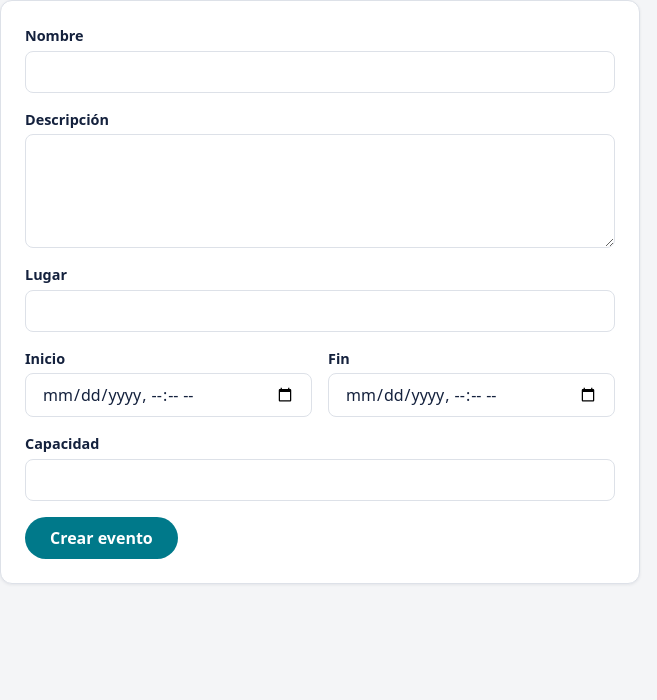
Scenario: EventForm › shows validation errors and does not submit an invalid form
Click the button "Crear evento": (101, 538) x1=25 y1=517 x2=178 y2=559
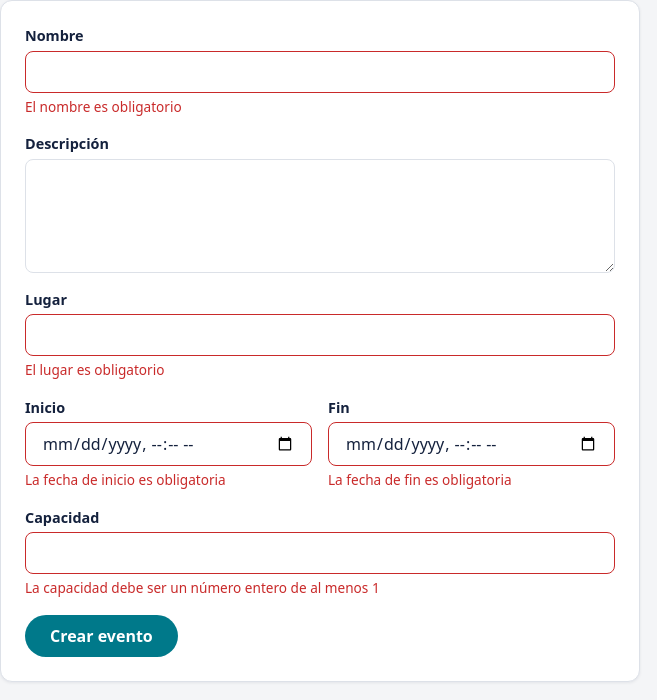
expect the text "El nombre es obligatorio" is shown: met, box x1=25 y1=97 x2=182 y2=116
expect the text "El lugar es obligatorio" is shown: met, box x1=25 y1=360 x2=164 y2=379
expect the text "La fecha de inicio es obligatoria" is shown: met, box x1=25 y1=470 x2=226 y2=489
